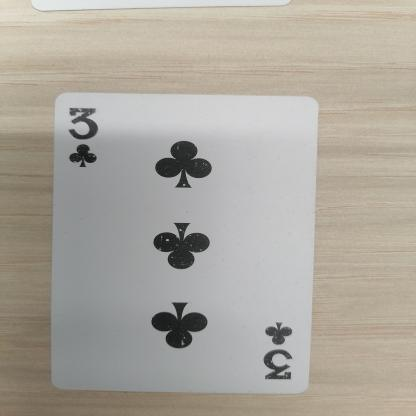3C: (257, 304, 307, 394), (66, 103, 122, 178)
